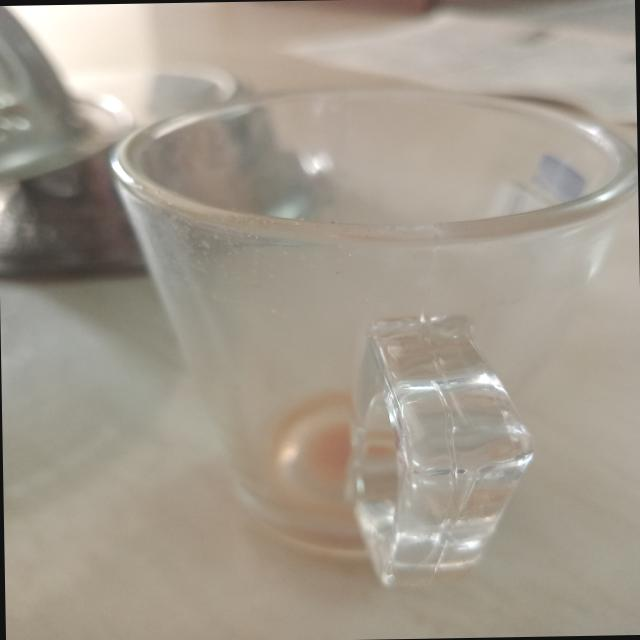glass-VX4N: (109, 92, 634, 590)
